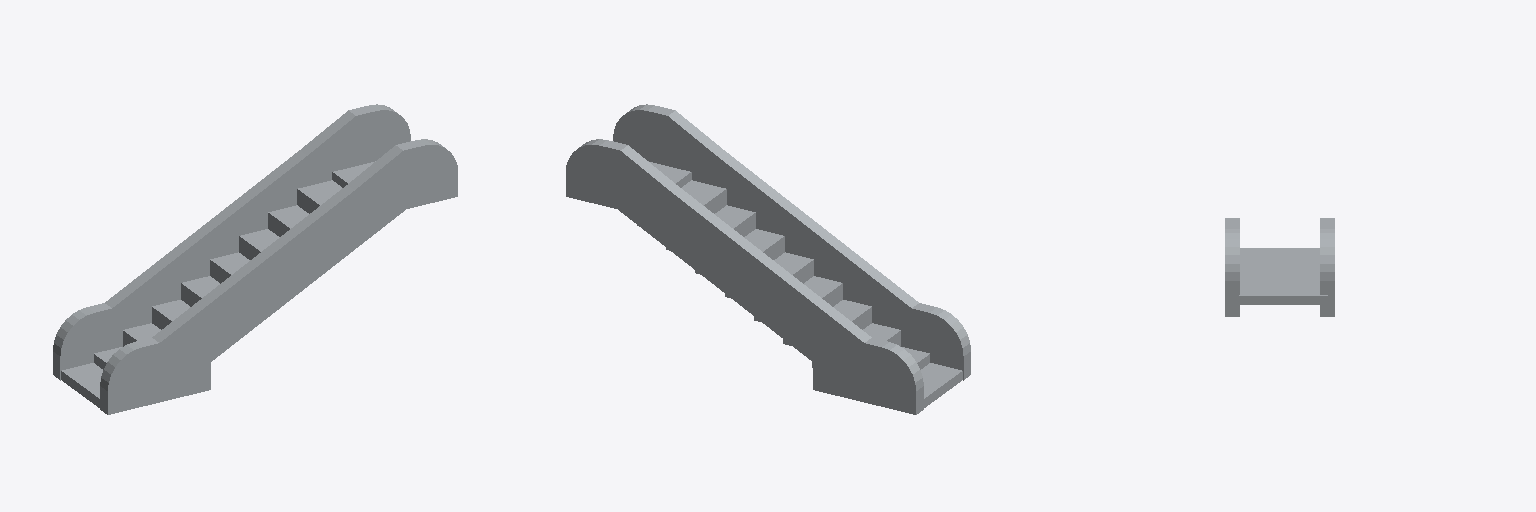
Rendered from elevator.obj.
The picture shows the model from 3 angles: view 1: azimuth 30°, elevation 25°; view 2: azimuth 150°, elevation 25°; view 3: azimuth 270°, elevation 25°; orthographic projection.
Parts seen in each view (by area): view 1: Shape238, Shape237, Box037, Box029, Box030, Box031, Box032, Box033, Box034; view 2: Shape237, Shape238, Box037, Box029, Box030, Box031, Box032, Box033, Box034; view 3: Box028, Shape238, Shape237, Box029.
Part boxes in pixels (x1,y1,x2,y2): Shape238: (100,139,457,414); Shape237: (53,104,410,380); Box037: (61,363,102,407); Box029: (297,180,341,213); Box030: (268,205,308,236); Box031: (239,229,279,259); Box032: (210,252,249,283); Box033: (181,276,219,306); Box034: (152,300,189,329); Shape237: (566,139,923,414); Shape238: (613,104,970,380); Box037: (921,363,962,407); Box029: (637,180,726,225); Box030: (666,205,755,250); Box031: (695,229,784,274); Box032: (725,252,813,297); Box033: (754,276,842,321); Box034: (783,300,871,345); Box028: (1239,257,1327,304); Shape238: (1225,218,1239,316); Shape237: (1320,218,1334,316); Box029: (1240,248,1319,256).
Size of the model in its own units: 0.5231 by 0.2736 by 0.1418.